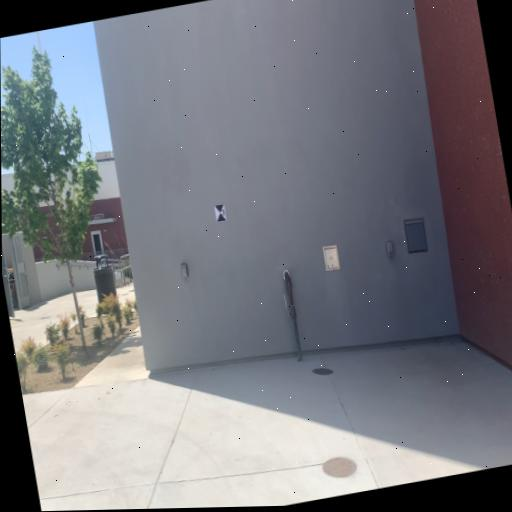target5: (214, 202, 226, 222)
